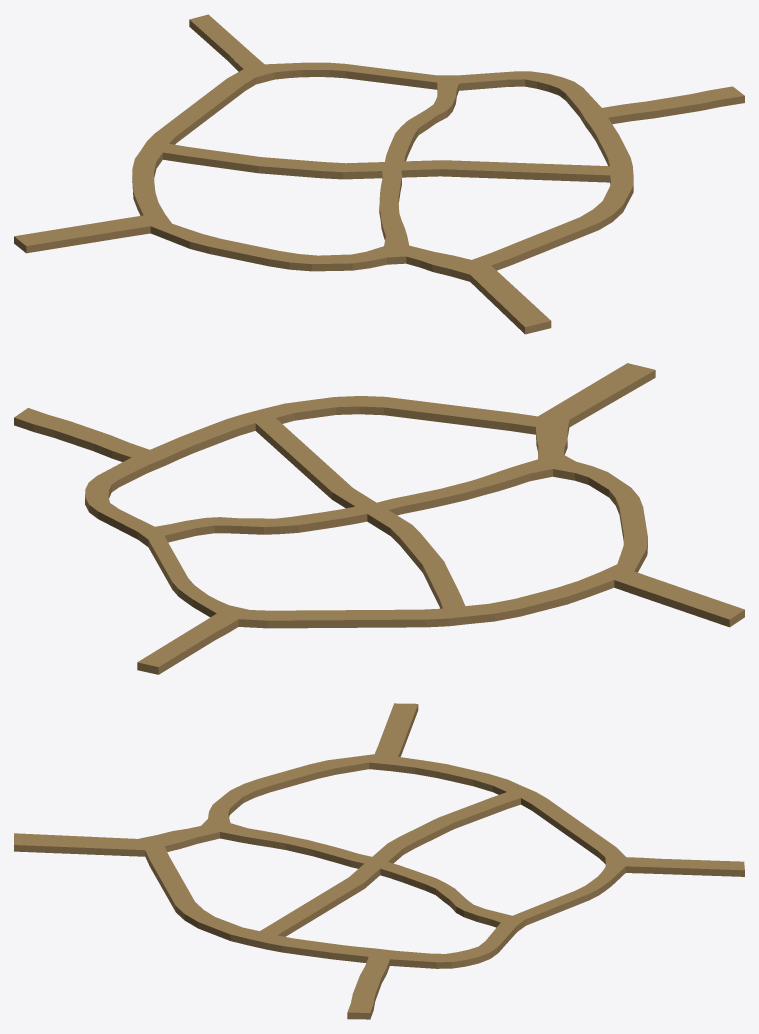
File: road.fbx
3 renders of one model, top to bottom at view 1: azimuth 30°, elevation 25°; view 2: azimuth 150°, elevation 25°; view 3: azimuth 270°, elevation 25°, orthographic. The views are drawn at different scales.
Parts seen in each view (by area): view 1: Plane.002; view 2: Plane.002; view 3: Plane.002.
Boxes of the visible parts, box(x1,y1,x2,y2) form: Plane.002: box(14, 14, 744, 334); Plane.002: box(14, 363, 744, 674); Plane.002: box(14, 703, 744, 1019).
Size of the model in its own units: 2991 by 29.78 by 2986.
